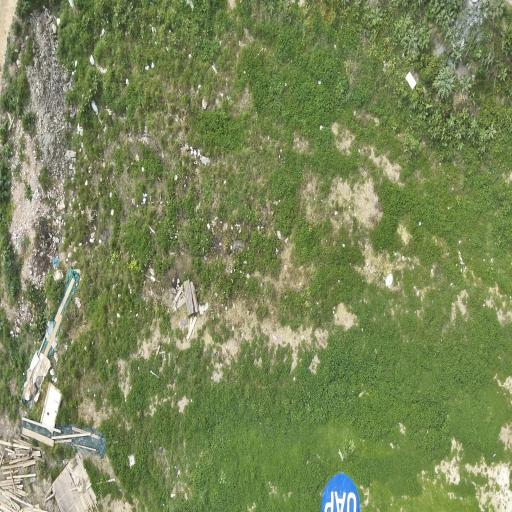uap: (321, 473, 360, 512)
